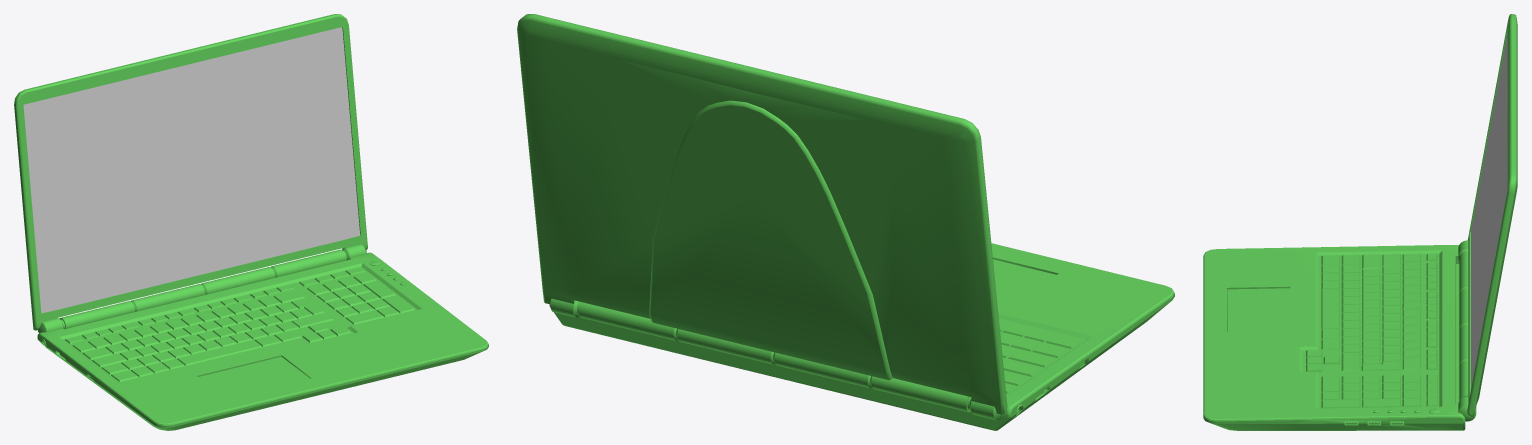
File: Laptop.fbx
3 views of the same model, side by side, from view 1: azimuth 30°, elevation 25°; view 2: azimuth 150°, elevation 25°; view 3: azimuth 270°, elevation 25° (orthographic). The views are drawn at different scales.
Visible parts, largest first — view 1: Laptop_screen, Laptop; view 2: Laptop_screen, Laptop; view 3: Laptop, Laptop_screen.
Part boxes in pixels (x1=…): Laptop_screen: x1=14, y1=14, x2=367, y2=332; Laptop: x1=37, y1=249, x2=488, y2=430; Laptop_screen: x1=517, y1=14, x2=1007, y2=420; Laptop: x1=549, y1=243, x2=1174, y2=430; Laptop: x1=1203, y1=245, x2=1468, y2=430; Laptop_screen: x1=1458, y1=14, x2=1517, y2=421.
Size of the model in its own units: 35.73 by 24.92 by 27.61.
